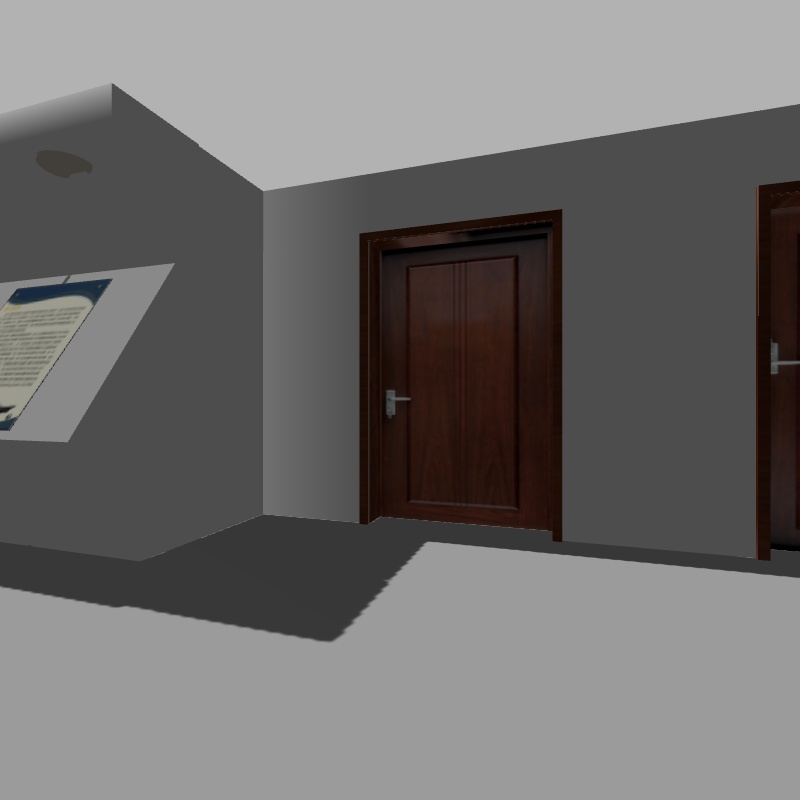handle: (763, 332, 800, 380), (374, 382, 417, 421)
